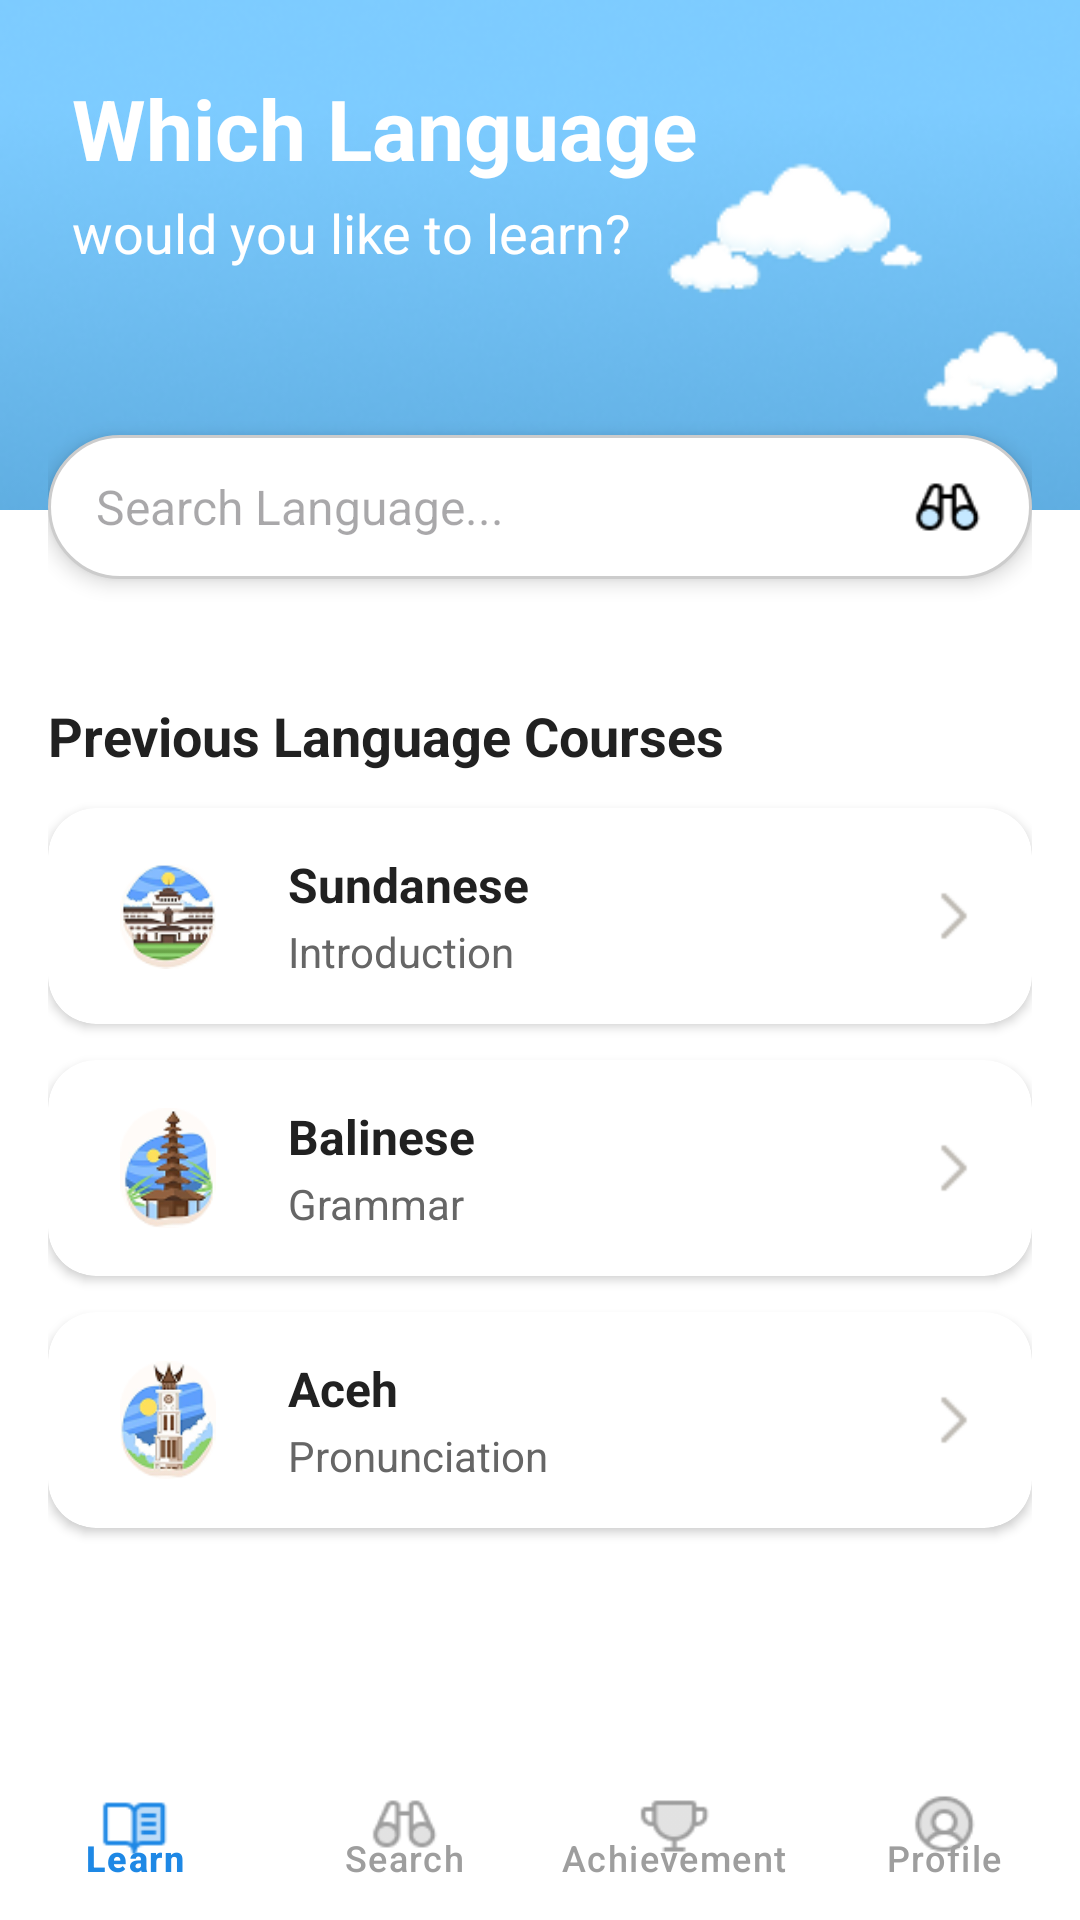

Named icons in this screenshot (1080*1920) and their bounding boxes, (x1, y1, x2, y2):
Arrow Icon: (941, 893, 967, 939), (941, 1145, 967, 1191), (941, 1397, 967, 1443)
